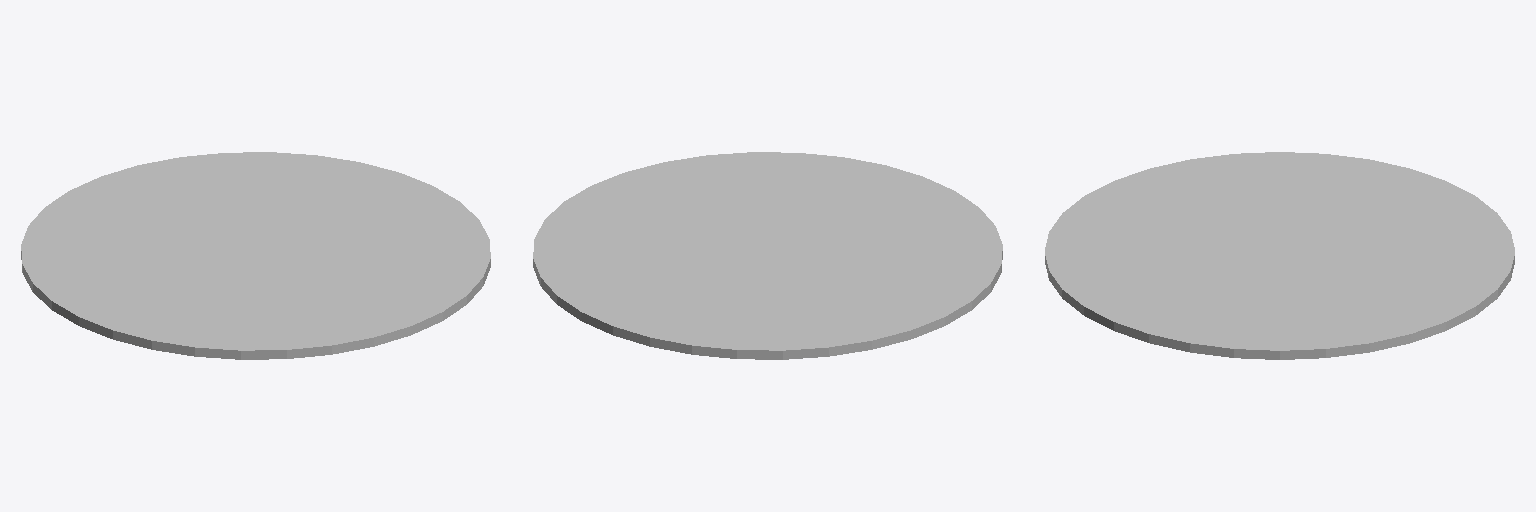
3 renders of one model, left to right at view 1: azimuth 30°, elevation 25°; view 2: azimuth 150°, elevation 25°; view 3: azimuth 270°, elevation 25°, orthographic.
Visible parts, largest first — view 1: Zylinder.001; view 2: Zylinder.001; view 3: Zylinder.001.
Part boxes in pixels (x1,y1,x2,y2): Zylinder.001: (21,152,490,359); Zylinder.001: (533,152,1002,359); Zylinder.001: (1045,152,1514,359).
Bounding box in the file's own units: 10.82 × 0.2331 × 10.82.